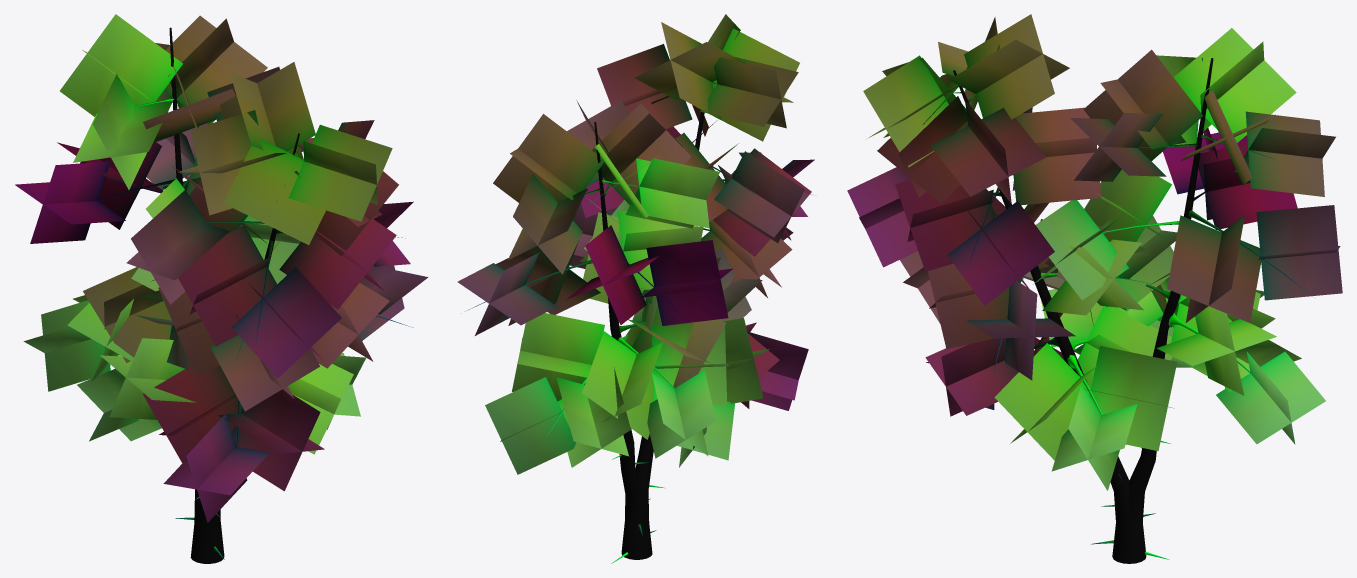
The model's file is URP_P7_Tree_6_LOD_1.fbx.
3 views of the same model, side by side, from view 1: azimuth 30°, elevation 25°; view 2: azimuth 150°, elevation 25°; view 3: azimuth 270°, elevation 25° (orthographic). The views are drawn at different scales.
Parts seen in each view (by area): view 1: Tree_6_LOD_1; view 2: Tree_6_LOD_1; view 3: Tree_6_LOD_1.
Boxes of the visible parts, <box> form: Tree_6_LOD_1: <box>15,14,428,563</box>; Tree_6_LOD_1: <box>457,14,814,563</box>; Tree_6_LOD_1: <box>847,14,1342,563</box>.
Bounding box in the file's own units: 238 × 412 × 348.
